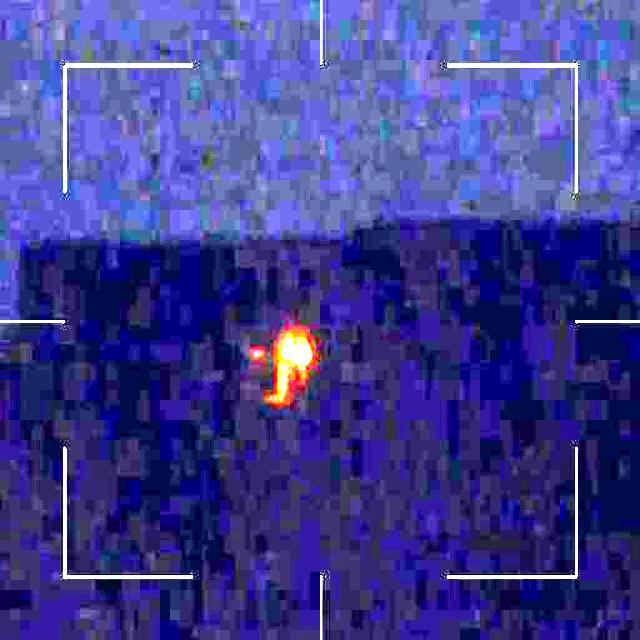bird: (232, 326, 310, 402)
